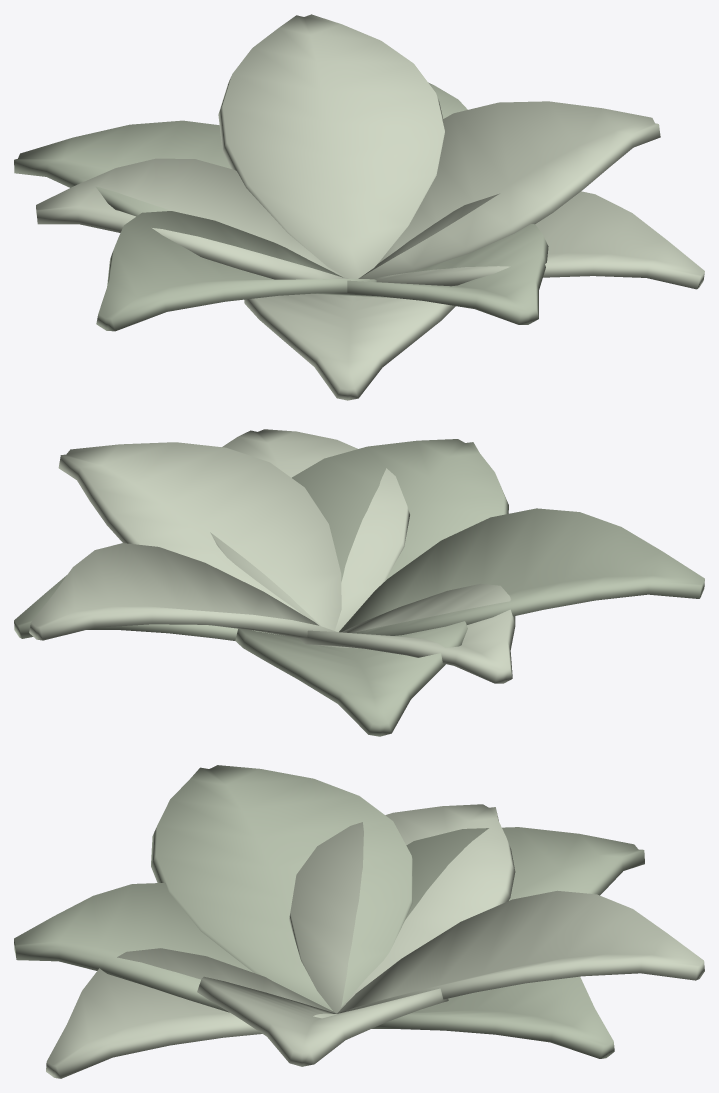
File: Sage.gltf
3 views of the same model, one above another, from view 1: azimuth 30°, elevation 25°; view 2: azimuth 150°, elevation 25°; view 3: azimuth 270°, elevation 25° (orthographic). The views are drawn at different scales.
Parts seen in each view (by area): view 1: Sage; view 2: Sage; view 3: Sage.
Part boxes in pixels (x1,y1,x2,y2): Sage: [14, 14, 704, 400]; Sage: [14, 429, 704, 736]; Sage: [14, 765, 704, 1078].
Size of the model in its own units: 0.6065 by 0.1292 by 0.5799.
